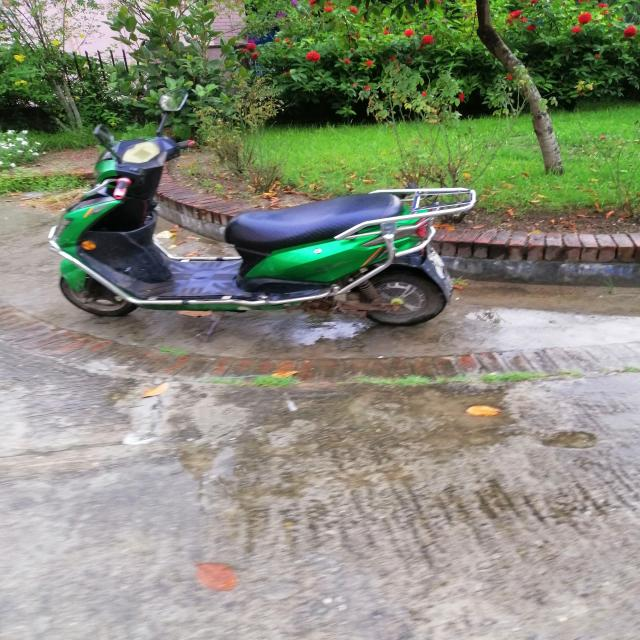Motorbike: (48, 82, 511, 338)
